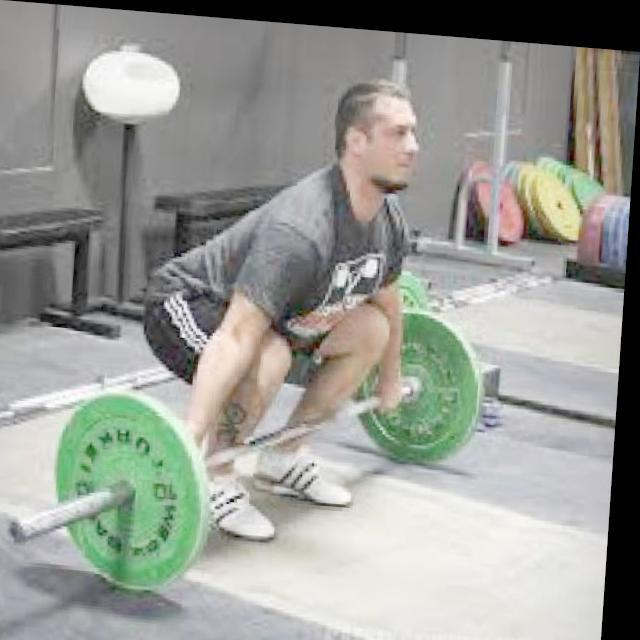barbell: (9, 377, 220, 599)
